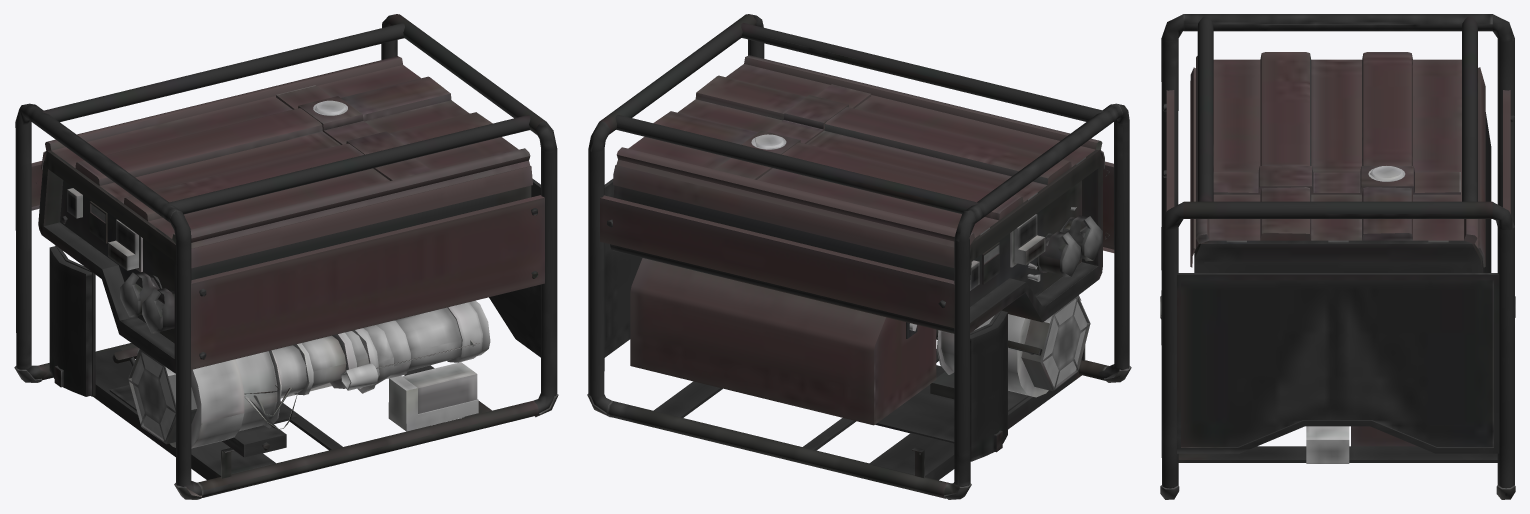
Rendered from generator.glb.
3 views of the same model, side by side, from view 1: azimuth 30°, elevation 25°; view 2: azimuth 150°, elevation 25°; view 3: azimuth 270°, elevation 25° (orthographic). The views are drawn at different scales.
Parts seen in each view (by area): view 1: generator; view 2: generator; view 3: generator.
Boxes of the visible parts, x1,y1,x2,y2 form: generator: [14, 14, 558, 499]; generator: [587, 14, 1131, 499]; generator: [1160, 14, 1515, 499].
Bounding box in the file's own units: 1.39 × 1.01 × 1.07.
Materials: 1 (1 with a texture image).
